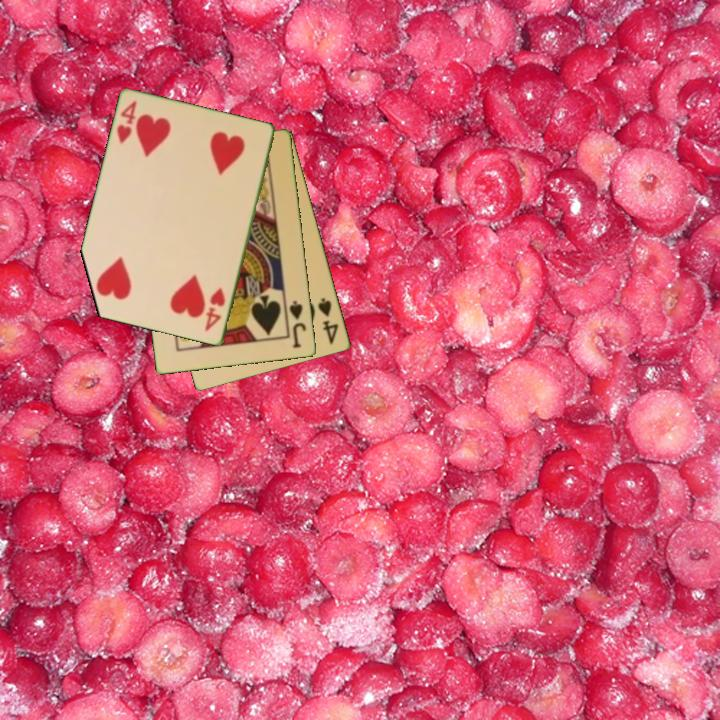4h: (201, 284, 228, 335), (113, 98, 140, 147)
4s: (315, 294, 342, 348)
Js: (286, 298, 309, 351)
